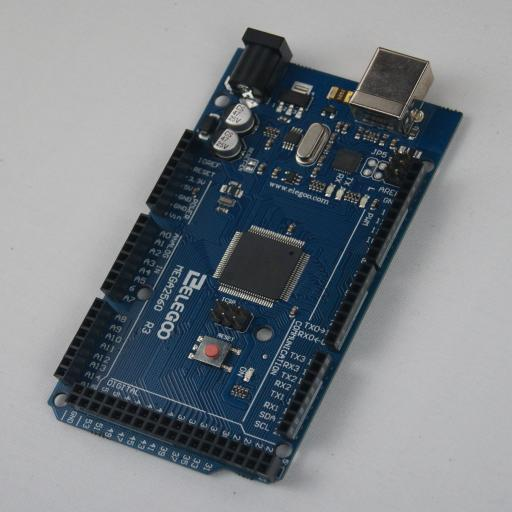Arduino Mega 2560 -Blue-: (47, 28, 463, 484)
